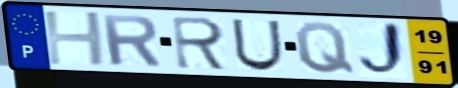H: (40, 10, 110, 67)
J: (356, 20, 411, 80)
Q: (292, 20, 358, 75)
R: (98, 12, 164, 68), (170, 14, 231, 72)
U: (229, 17, 285, 73)
